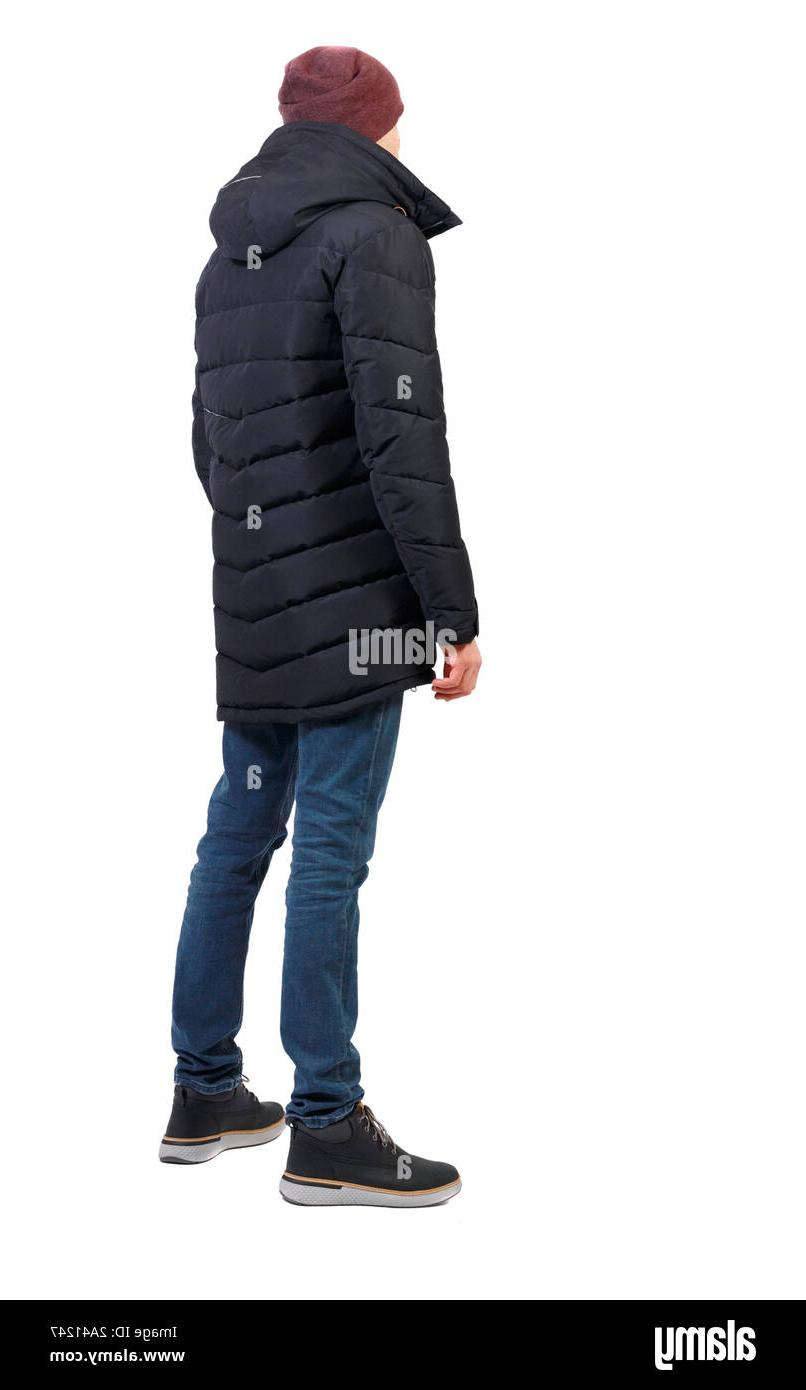coat: (186, 125, 489, 727)
trousers: (165, 672, 401, 1130)
